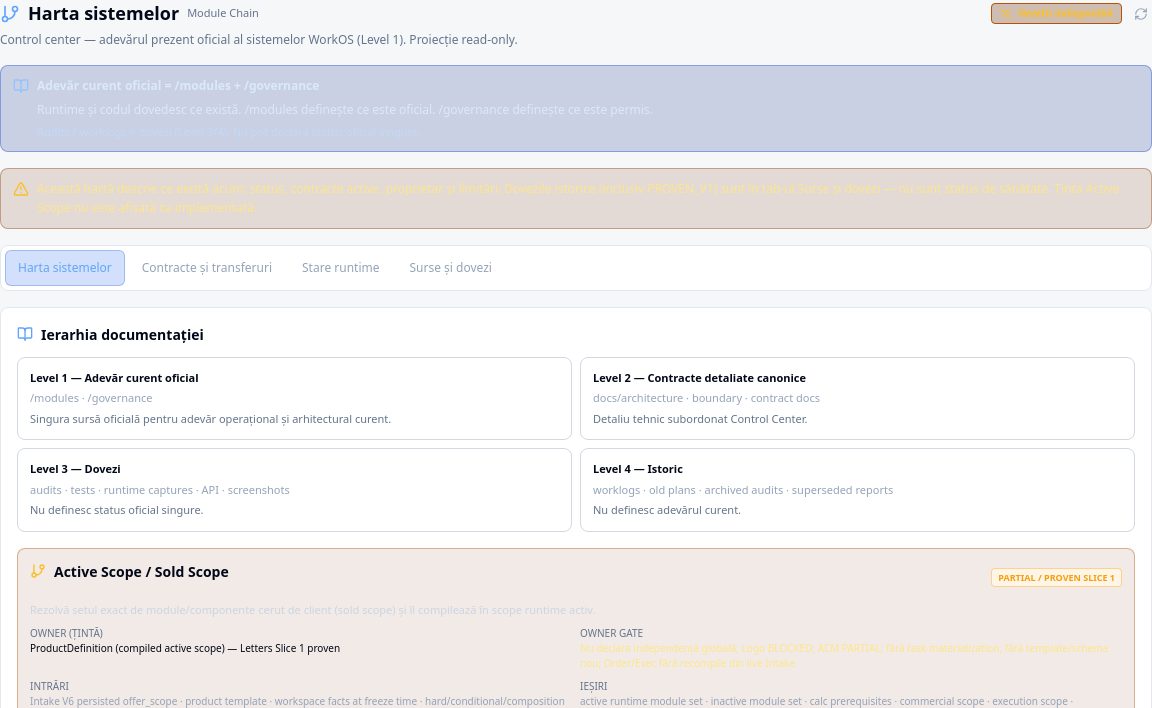
it: ModuleChain present-truth control center › keeps handoffs present-only and evidence historical
Click the tab with test id "module-chain-tab-handoffs". click: (207, 268)
box: [129,250,285,286]
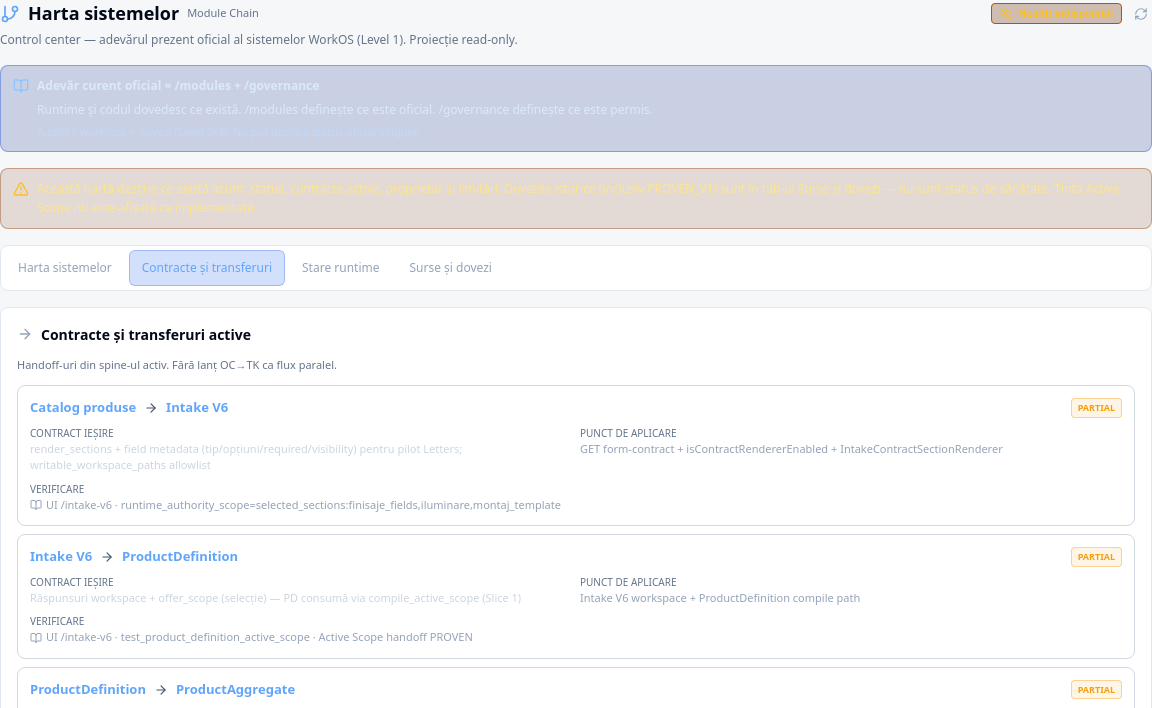
Expected: the text "REFERINȚĂ" is not shown
Result: the element with test id "handoff-intake_v6-product_definition" is shown at [17,534,1135,659]
Click the tab with test id "module-chain-tab-evidence". click: (451, 268)
box: [396,250,505,286]
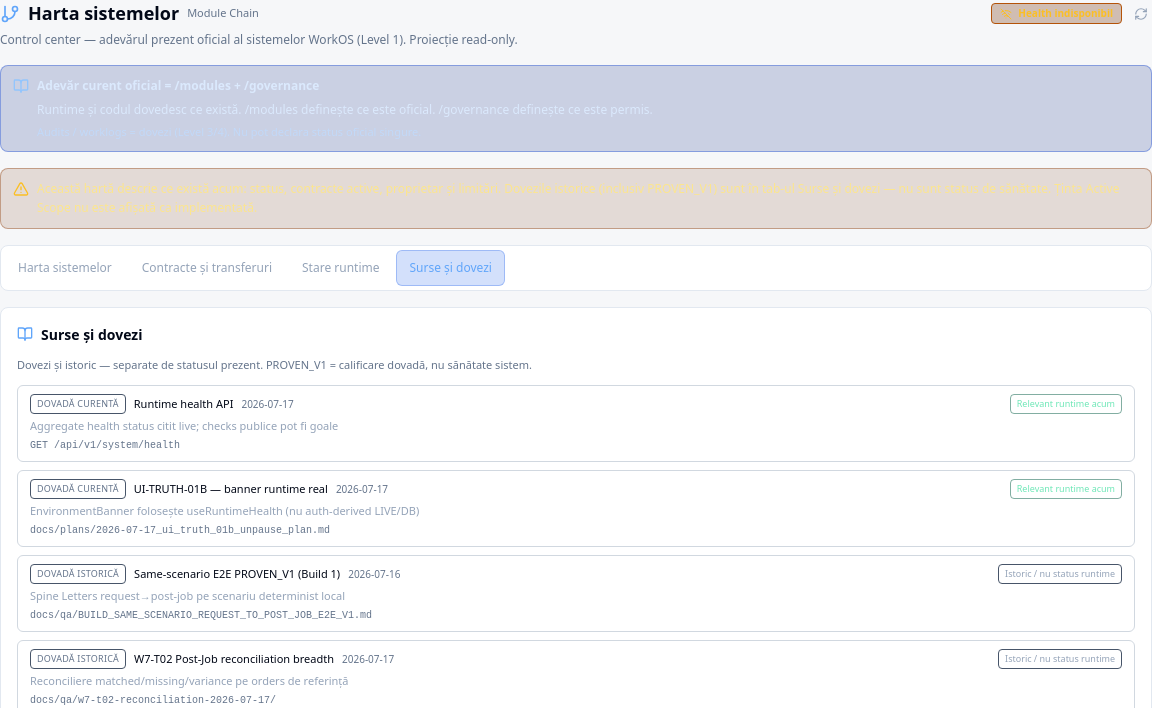
Result: the element with test id "evidence-ev.same_scenario" shows "PROVEN_V1" at [134,566,340,581]
Result: the element with test id "evidence-ev.same_scenario" shows "Istoric / nu status runtime" at [1005,567,1115,580]
